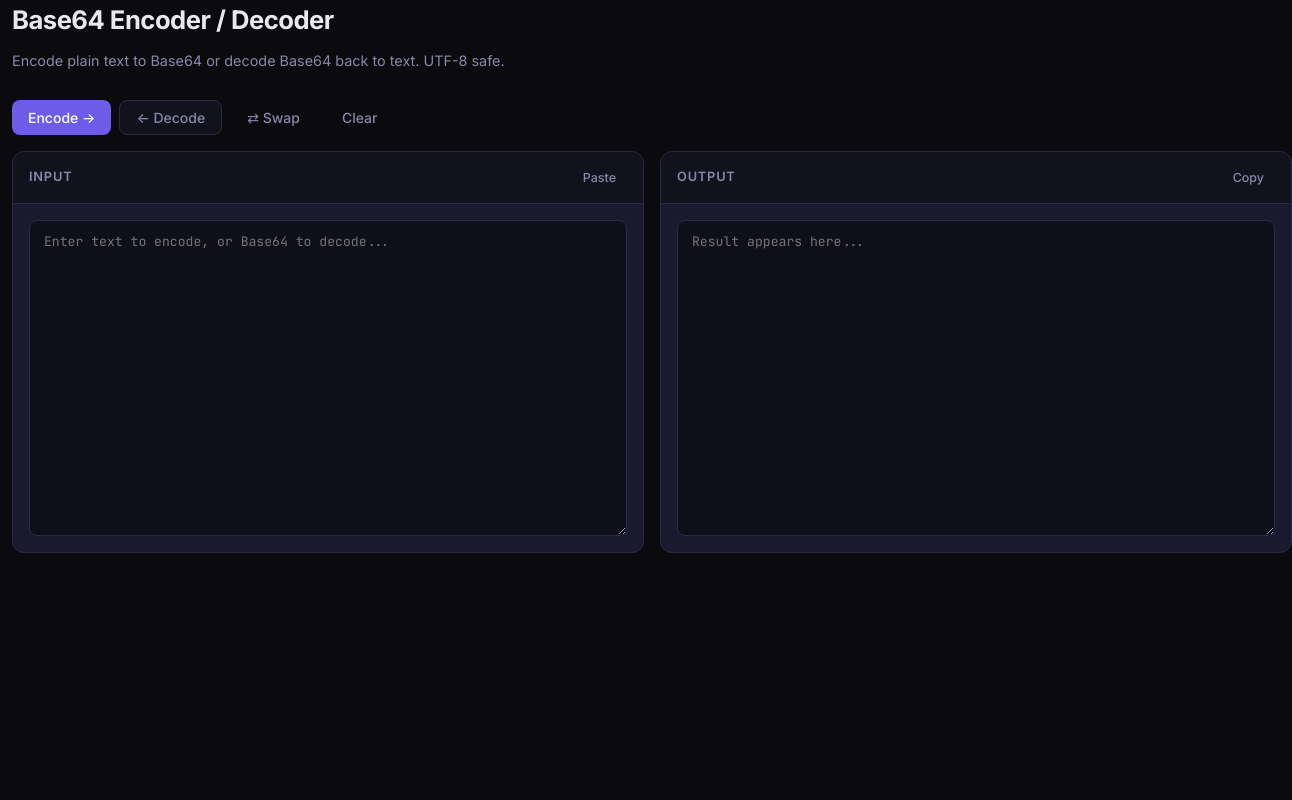
Scenario: Base64Tool › decodes Base64 to ASCII text
In the text box with placeholder "Enter text to encode, or Base64 to decode...": (328, 378) [29,220,627,536], type "SGVsbG8sIFdvcmxkIQ=="
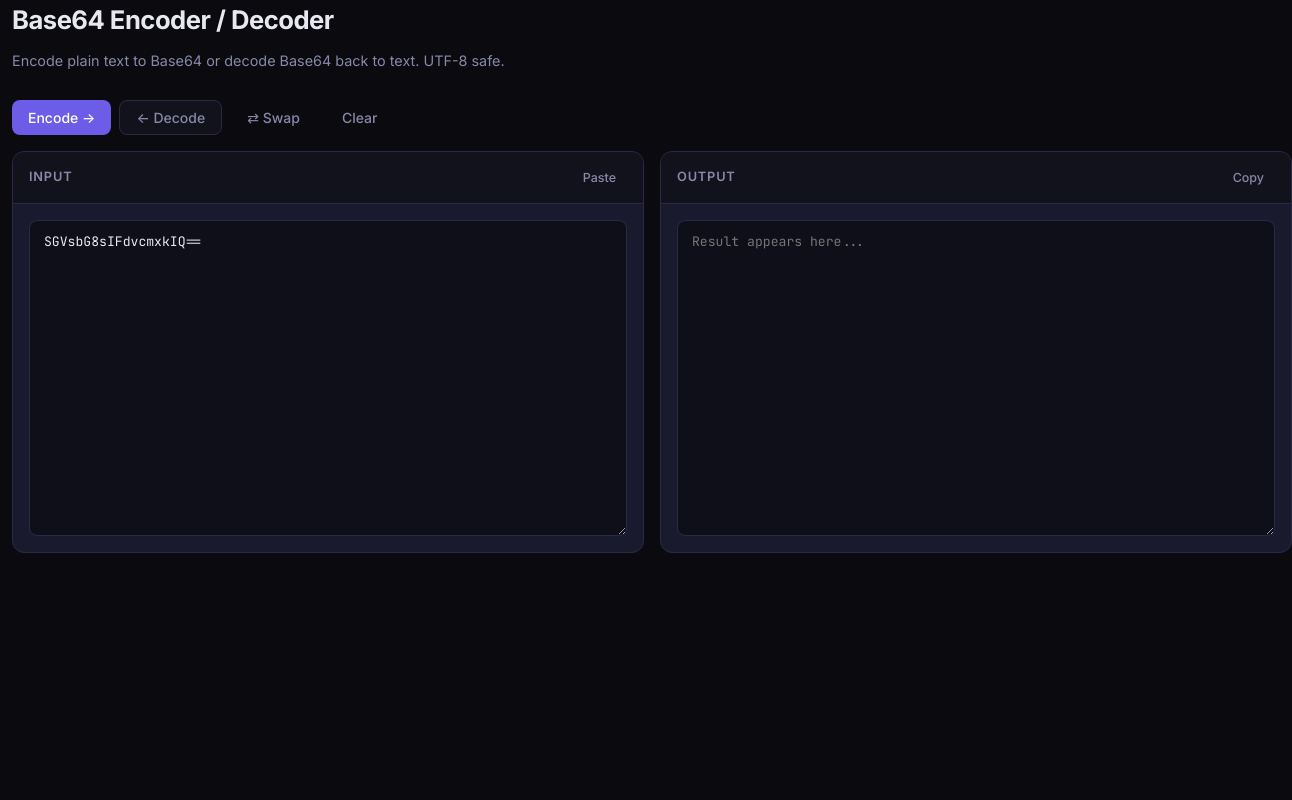
Click the button "← Decode": (171, 118) [119,100,222,135]
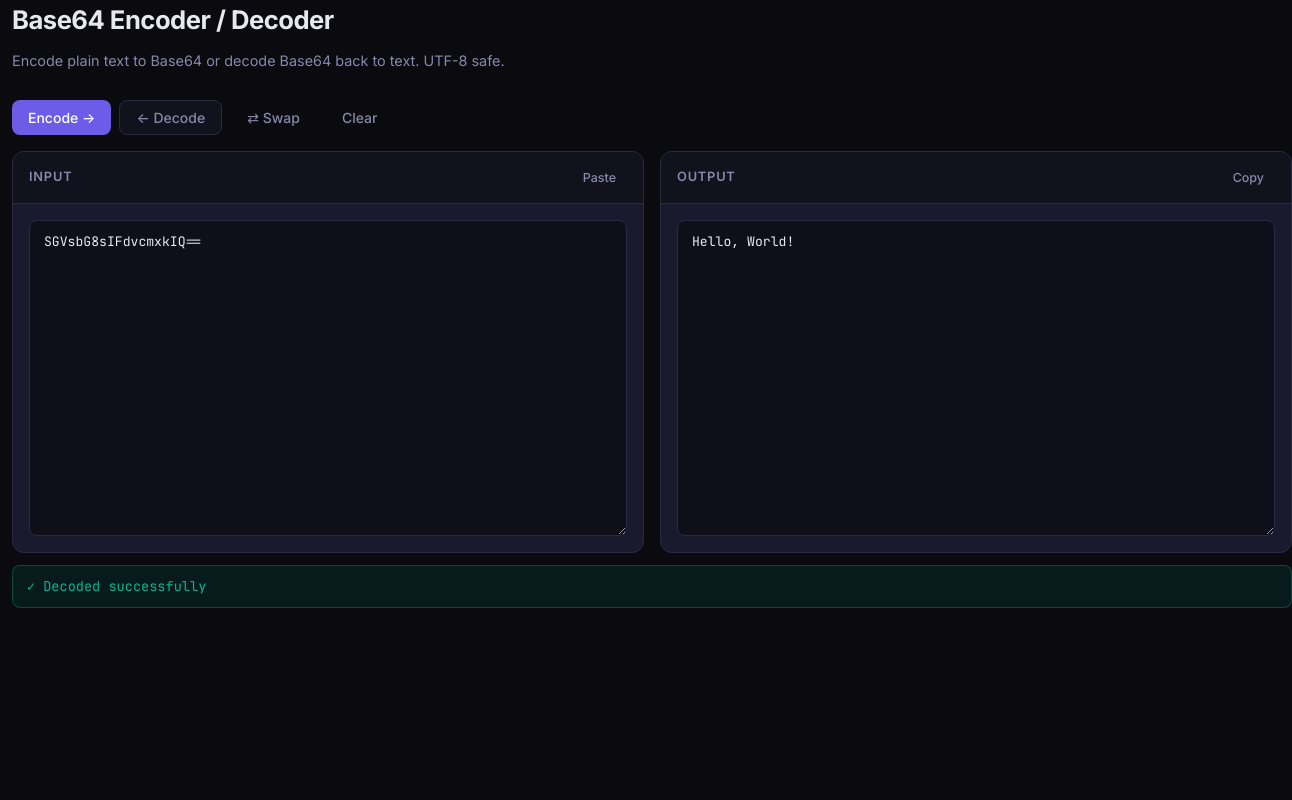
Check: the text box below "Output" holds "Hello, World!", box [677,220,1275,536]
